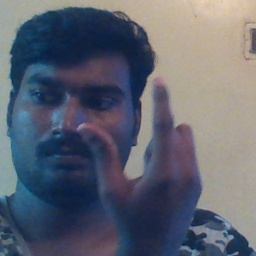U: (84, 68, 211, 235)
